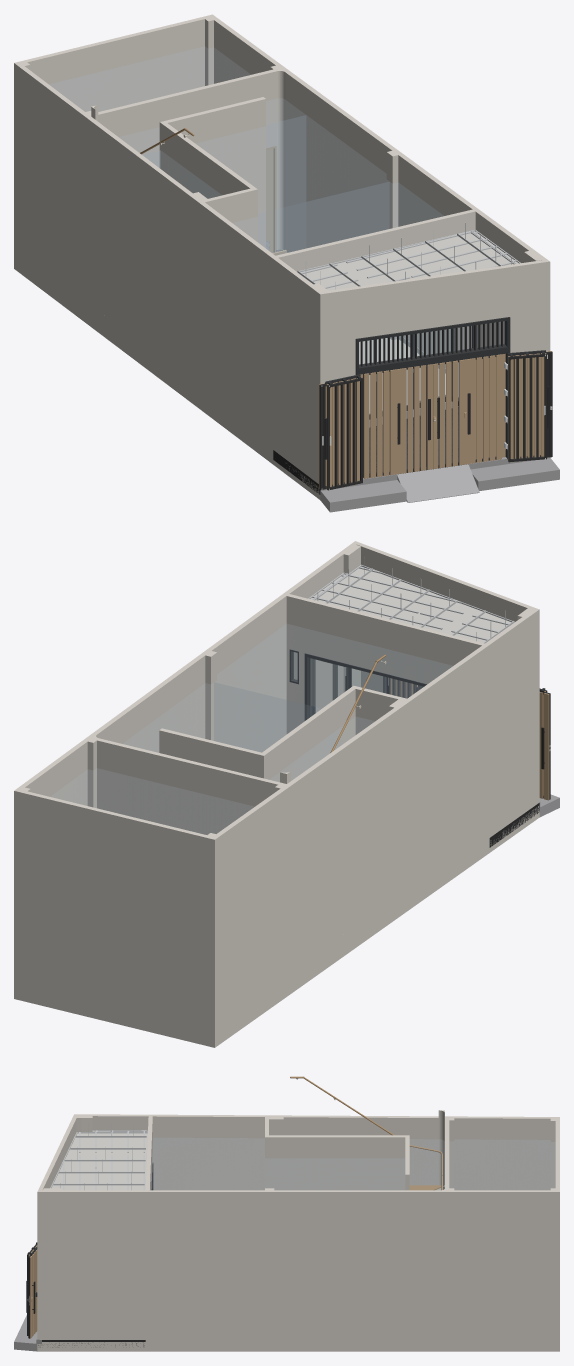
3 views of the same model, one above another, from view 1: azimuth 30°, elevation 25°; view 2: azimuth 150°, elevation 25°; view 3: azimuth 270°, elevation 25° (orthographic). The views are drawn at different scales.
Parts seen in each view (by area): view 1: Tầng 1 (Trệt) — tường W18 (0.00–3.31m), Tầng 1 (Trệt) — tường W15 (0.00–2.74m), Tầng 1 (Trệt) — tường W03 (0.00–2.61m), Tầng 1 (Trệt) — tường W02 (0.00–4.09m), Tầng 1 (Trệt) — tường W05 (0.00–3.25m), Tầng 1 (Trệt) — tường W11 (0.00–1.77m), Tầng 1 (Trệt) — mảng trên lanh tô O02 (W12), Tầng 1 (Trệt) — khối phòng Bếp + bàn ăn, Tầng 1 (Trệt) — khối phòng Phòng khách, Tầng 1 (Trệt) — tường W21 (0.00–2.13m), Tầng 1 (Trệt) — tường W20 (0.00–0.94m), Tầng 1 (Trệt) — trần sân trước — tấm nền xi măng sợi (+42 smaller); view 2: Tầng 1 (Trệt) — tường W02 (0.00–4.09m), Tầng 1 (Trệt) — tường W18 (0.00–3.31m), Tầng 1 (Trệt) — tường W15 (0.00–2.74m), Tầng 1 (Trệt) — tường W03 (0.00–2.61m), Tầng 1 (Trệt) — khối phòng Phòng khách, Tầng 1 (Trệt) — tường W11 (0.00–1.77m), Tầng 1 (Trệt) — tường W13 (0.00–2.88m), Tầng 1 (Trệt) — mảng trên lanh tô O03 (W10), Tầng 1 (Trệt) — tường W06 (0.93–4.13m), Tầng 1 (Trệt) — nền đất đắp + móng dưới sàn trệt, Tầng 1 (Trệt) — khối phòng Bếp + bàn ăn, Tầng 1 (Trệt) — trần sân trước — tấm nền xi măng sợi (+27 smaller); view 3: Tầng 1 (Trệt) — tường W05 (0.00–3.25m), Tầng 1 (Trệt) — tường W13 (0.00–2.88m), Tầng 1 (Trệt) — tường W09 (0.00–2.54m), Tầng 1 (Trệt) — tường W01 (0.00–2.61m), Tầng 1 (Trệt) — tường W15 (0.00–2.74m), Tầng 1 (Trệt) — tường W03 (0.00–2.61m), Tầng 1 (Trệt) — tường W23 (0.00–0.94m), Tầng 1 (Trệt) — tường W16 (0.91–3.31m), Tầng 1 (Trệt) — nền đất đắp + móng dưới sàn trệt, Tầng 1 (Trệt) — trần sân trước — tấm nền xi măng sợi, Tầng 1 (Trệt) — khối phòng Bếp + bàn ăn, Tầng 1 (Trệt) — tường W18 (0.00–3.31m) (+24 smaller).
Part boxes in pixels (bbox=[...]): Tầng 1 (Trệt) — tường W18 (0.00–3.31m): bbox=[110, 134, 202, 385]; Tầng 1 (Trệt) — tường W15 (0.00–2.74m): bbox=[198, 201, 275, 440]; Tầng 1 (Trệt) — tường W03 (0.00–2.61m): bbox=[15, 63, 89, 299]; Tầng 1 (Trệt) — tường W02 (0.00–4.09m): bbox=[17, 15, 212, 111]; Tầng 1 (Trệt) — tường W05 (0.00–3.25m): bbox=[306, 86, 396, 248]; Tầng 1 (Trệt) — tường W11 (0.00–1.77m): bbox=[272, 257, 323, 483]; Tầng 1 (Trệt) — mảng trên lanh tô O02 (W12): bbox=[354, 265, 509, 338]; Tầng 1 (Trệt) — khối phòng Bếp + bàn ăn: bbox=[197, 116, 386, 252]; Tầng 1 (Trệt) — khối phòng Phòng khách: bbox=[234, 182, 443, 254]; Tầng 1 (Trệt) — tường W21 (0.00–2.13m): bbox=[162, 97, 265, 248]; Tầng 1 (Trệt) — tường W20 (0.00–0.94m): bbox=[85, 116, 114, 318]; Tầng 1 (Trệt) — trần sân trước — tấm nền xi măng sợi: bbox=[301, 231, 518, 290]; Tầng 1 (Trệt) — tường W02 (0.00–4.09m): bbox=[16, 790, 214, 1024]; Tầng 1 (Trệt) — tường W18 (0.00–3.31m): bbox=[312, 700, 410, 952]; Tầng 1 (Trệt) — tường W15 (0.00–2.74m): bbox=[407, 645, 488, 885]; Tầng 1 (Trệt) — tường W03 (0.00–2.61m): bbox=[212, 785, 290, 1023]; Tầng 1 (Trệt) — khối phòng Phòng khách: bbox=[217, 624, 451, 751]; Tầng 1 (Trệt) — tường W11 (0.00–1.77m): bbox=[485, 609, 538, 837]; Tầng 1 (Trệt) — tường W13 (0.00–2.88m): bbox=[204, 593, 286, 752]; Tầng 1 (Trệt) — mảng trên lanh tô O03 (W10): bbox=[305, 598, 468, 684]; Tầng 1 (Trệt) — tường W06 (0.93–4.13m): bbox=[133, 747, 286, 834]; Tầng 1 (Trệt) — nền đất đắp + móng dưới sàn trệt: bbox=[14, 806, 539, 1047]; Tầng 1 (Trệt) — khối phòng Bếp + bàn ăn: bbox=[123, 682, 320, 752]; Tầng 1 (Trệt) — trần sân trước — tấm nền xi măng sợi: bbox=[310, 566, 511, 642]; Tầng 1 (Trệt) — tường W05 (0.00–3.25m): bbox=[269, 1190, 407, 1334]; Tầng 1 (Trệt) — tường W13 (0.00–2.88m): bbox=[147, 1190, 269, 1334]; Tầng 1 (Trệt) — tường W09 (0.00–2.54m): bbox=[40, 1190, 147, 1339]; Tầng 1 (Trệt) — tường W01 (0.00–2.61m): bbox=[447, 1190, 557, 1334]; Tầng 1 (Trệt) — tường W15 (0.00–2.74m): bbox=[150, 1114, 266, 1190]; Tầng 1 (Trệt) — tường W03 (0.00–2.61m): bbox=[447, 1116, 557, 1190]; Tầng 1 (Trệt) — tường W23 (0.00–0.94m): bbox=[407, 1190, 446, 1334]; Tầng 1 (Trệt) — tường W16 (0.91–3.31m): bbox=[305, 1135, 407, 1190]; Tầng 1 (Trệt) — nền đất đắp + móng dưới sàn trệt: bbox=[37, 1342, 559, 1351]; Tầng 1 (Trệt) — trần sân trước — tấm nền xi măng sợi: bbox=[51, 1131, 147, 1190]; Tầng 1 (Trệt) — khối phòng Bếp + bàn ăn: bbox=[270, 1158, 404, 1189]; Tầng 1 (Trệt) — tường W18 (0.00–3.31m): bbox=[267, 1115, 407, 1135].
Size of the model in its own units: 4.48 by 5.26 by 12.88.
